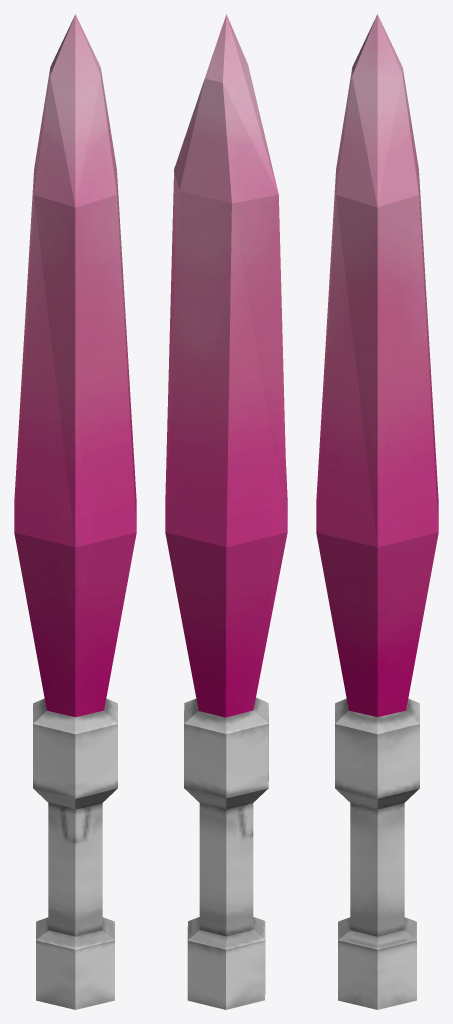
The model's file is Whale_toyWeapon_lance.obj.
The picture shows the model from 3 angles, left to right: view 1: azimuth 90°, elevation 25°; view 2: azimuth 150°, elevation 25°; view 3: azimuth 270°, elevation 25°; orthographic projection.
Visible parts, largest first — view 1: Whale_toyWeapon_tri [lance]; view 2: Whale_toyWeapon_tri [lance]; view 3: Whale_toyWeapon_tri [lance].
Part boxes in pixels (<box>): Whale_toyWeapon_tri [lance]: <box>14,14,136,1009</box>; Whale_toyWeapon_tri [lance]: <box>165,14,287,1009</box>; Whale_toyWeapon_tri [lance]: <box>316,14,438,1009</box>.
Size of the model in its own units: 0.1918 by 1.48 by 0.1662.
1 material, 1 textured.
